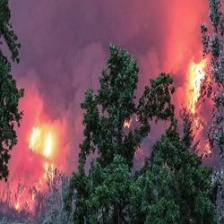fire: (19, 104, 73, 205), (180, 41, 220, 153)
smoke: (36, 1, 170, 92)
